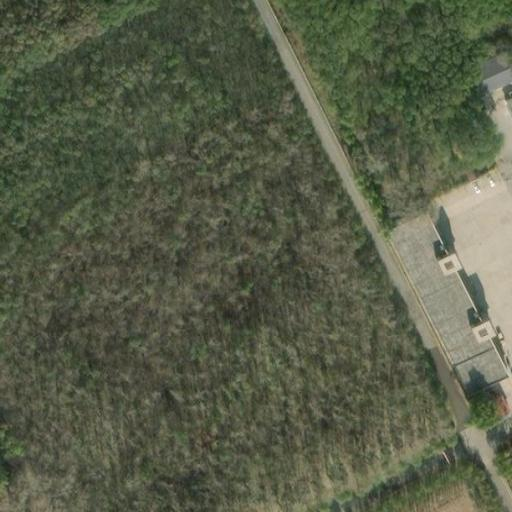building: (381, 210, 500, 392), (459, 39, 512, 90)
